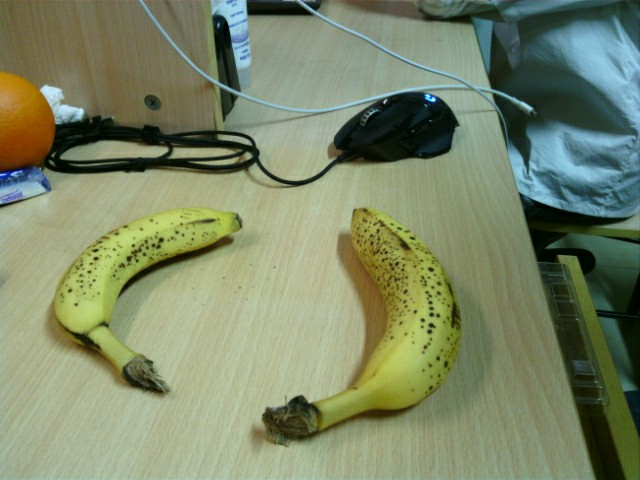normal_banana: (261, 208, 461, 438), (55, 208, 245, 395)
